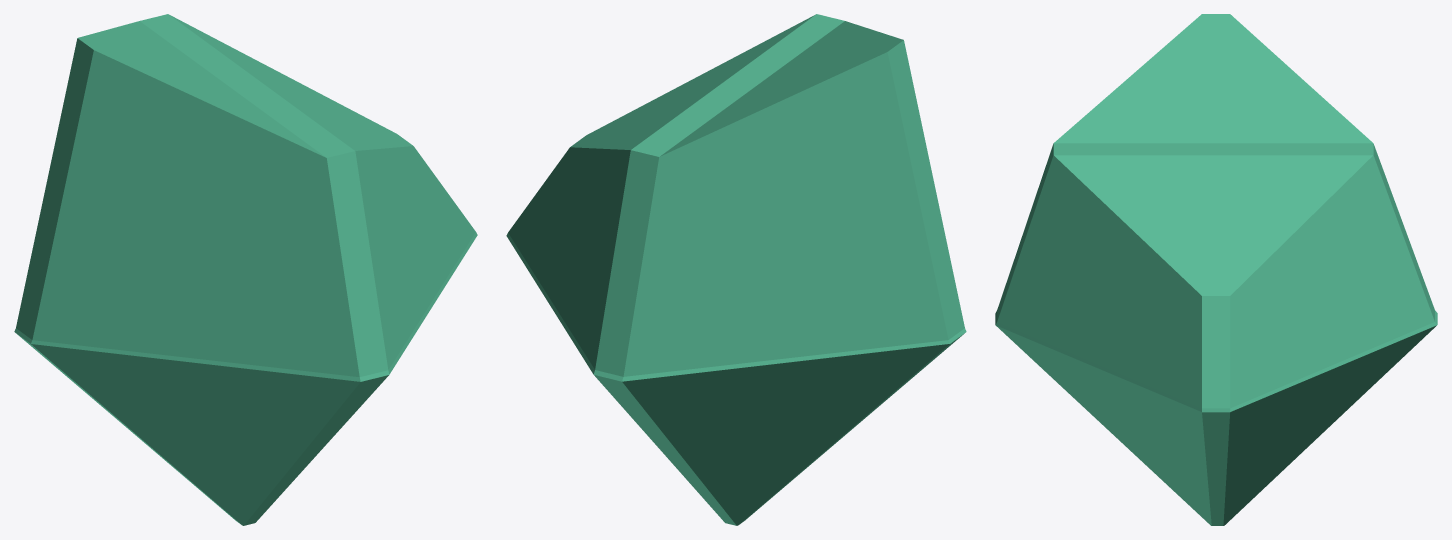
The model's file is radishGreenCollider.obj.
3 views of the same model, side by side, from view 1: azimuth 30°, elevation 25°; view 2: azimuth 150°, elevation 25°; view 3: azimuth 270°, elevation 25° (orthographic). The views are drawn at different scales.
Parts seen in each view (by area): view 1: carrotGreen.001; view 2: carrotGreen.001; view 3: carrotGreen.001.
Part boxes in pixels (box(x1,y1,x2,y2)): carrotGreen.001: box(14, 14, 477, 525); carrotGreen.001: box(506, 14, 966, 525); carrotGreen.001: box(995, 14, 1437, 525).
Size of the model in its own units: 0.3457 by 0.3825 by 0.3466.
